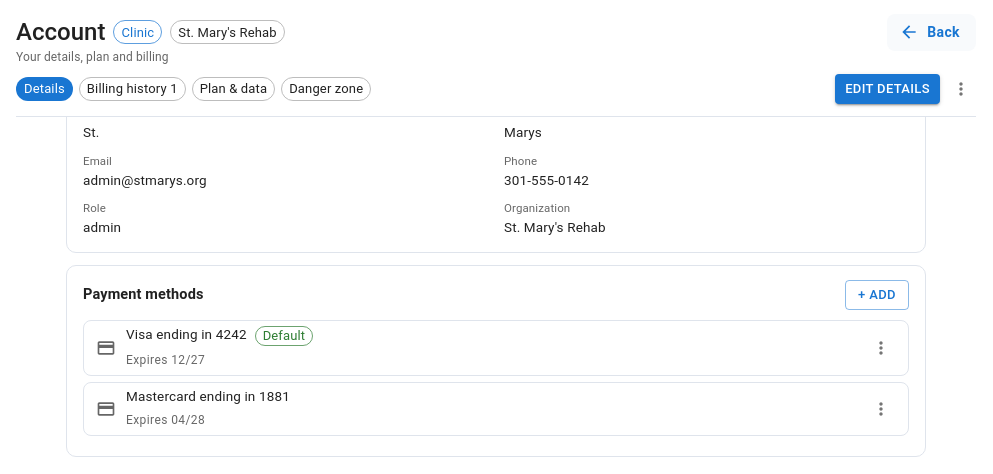
Scenario: the default card has no Set as default option
Expected: the heading "Account" is shown, [16,16,106,48]
Click the button named "Actions for Visa ending in 4242". click: (881, 348)
box: [866,333,896,363]
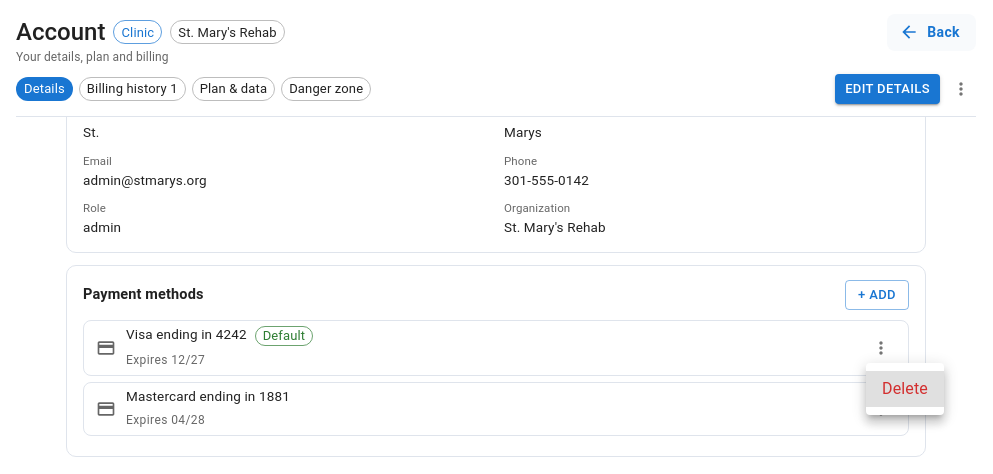
Expected: the menu item "Delete" is shown, [866,371,944,407]
